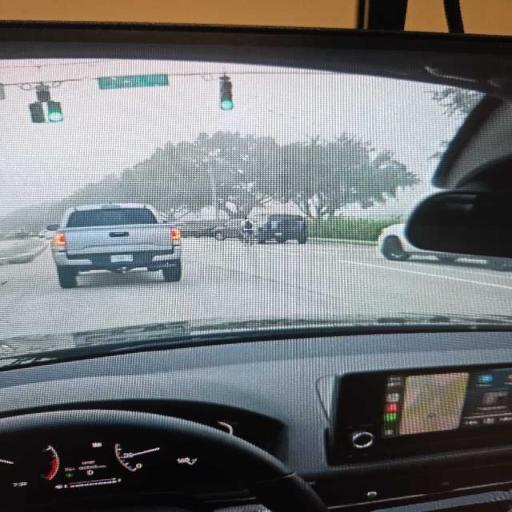car: (0, 22, 511, 258), (378, 223, 468, 263), (249, 214, 307, 244), (212, 219, 241, 240)
lane: (0, 239, 511, 339)
person: (241, 217, 253, 239)
truck: (48, 203, 181, 288)
